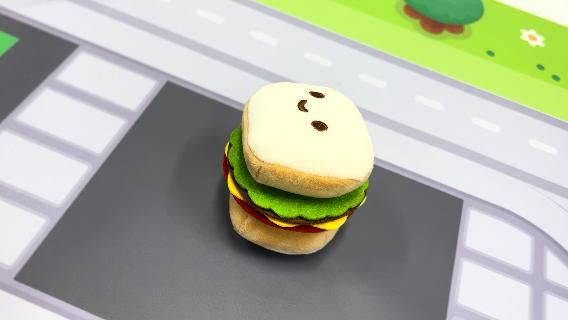sandwich: (221, 80, 377, 256)
